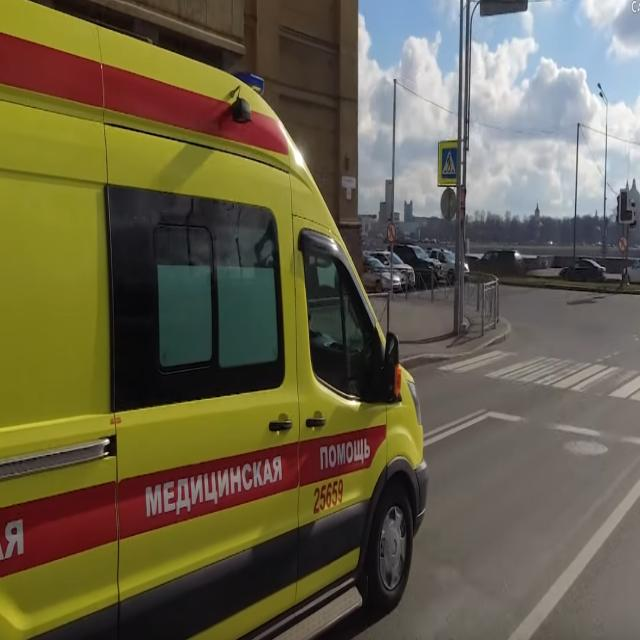intensive care unit: (0, 0, 431, 640)
non emergency car: (388, 246, 441, 289), (374, 250, 416, 288), (478, 244, 522, 276), (558, 257, 608, 285), (434, 245, 468, 280), (365, 257, 399, 290)
